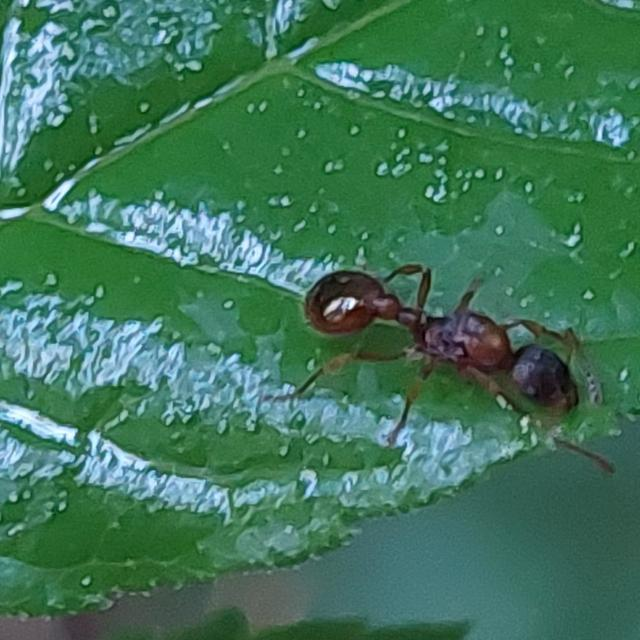Myrmica: (278, 228, 614, 460)
